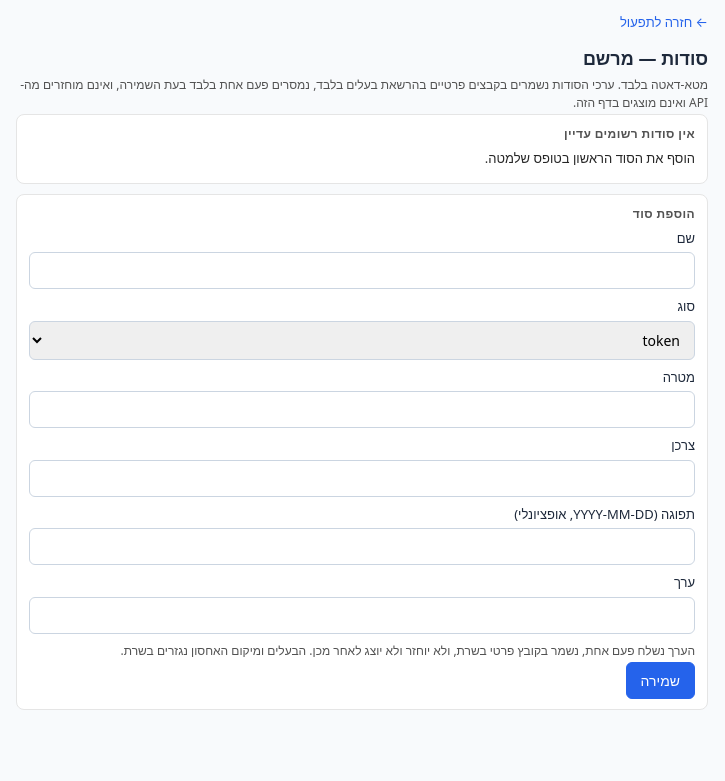
H2 — the owner flow works from the page › creates a secret, sends the value exactly once, and clears it after
The width and height of the screenshot is (725, 781).
Type "new-token" into the field with test id "ops-secret-name" at coordinates (362, 270), box [29,252,695,289]
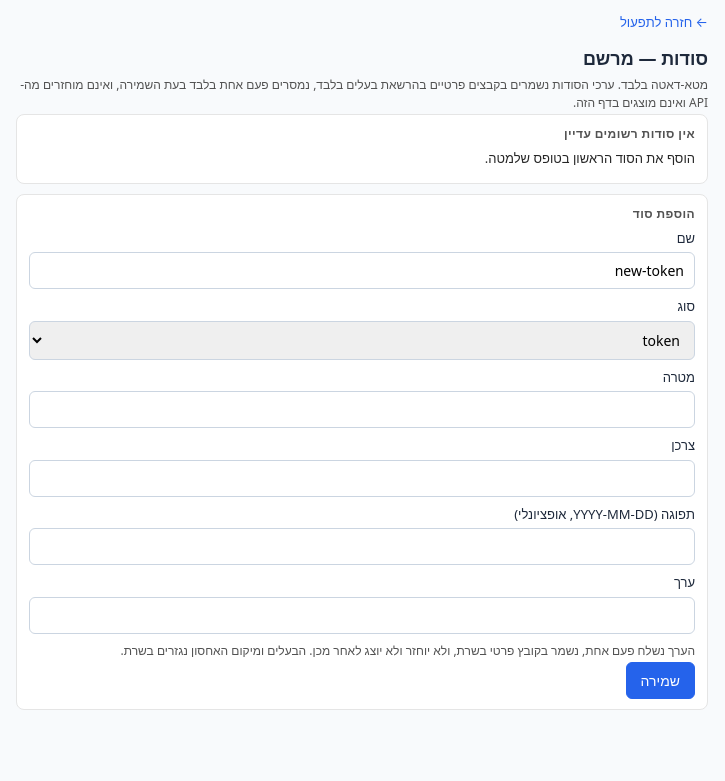
Type "synthetic" into the field with test id "ops-secret-purpose" at coordinates (362, 410), box [29,391,695,428]
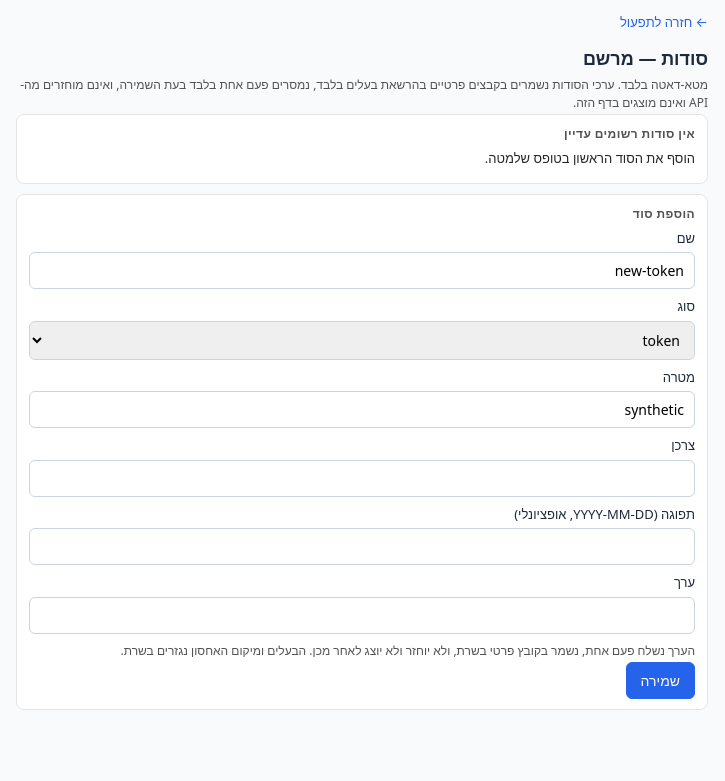
Type "none" into the field with test id "ops-secret-consumer" at coordinates (362, 478), box [29,460,695,496]
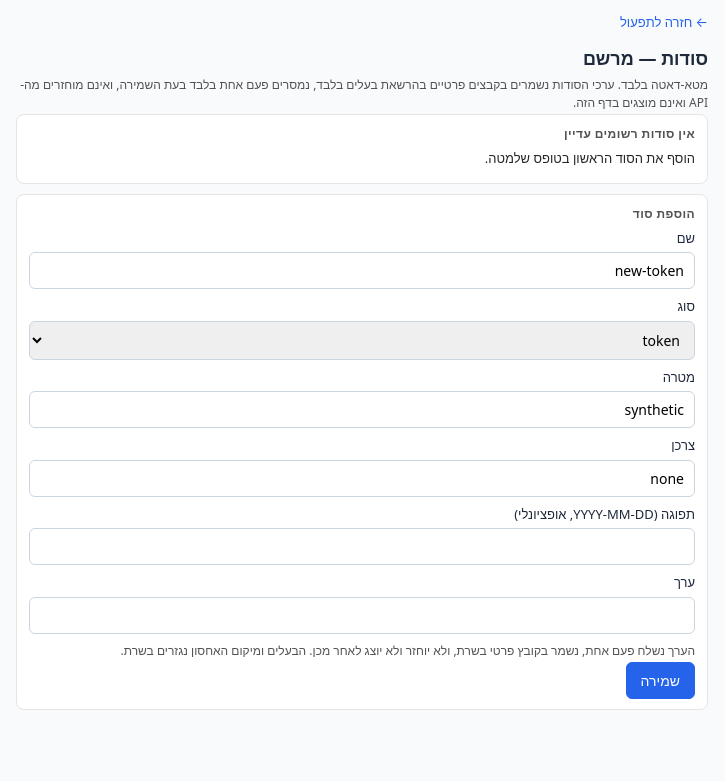
Type "Qx7z-synthetic-value-must-never-render-0001" into the password field with test id "ops-secret-value" at coordinates (362, 615), box [29,596,695,634]
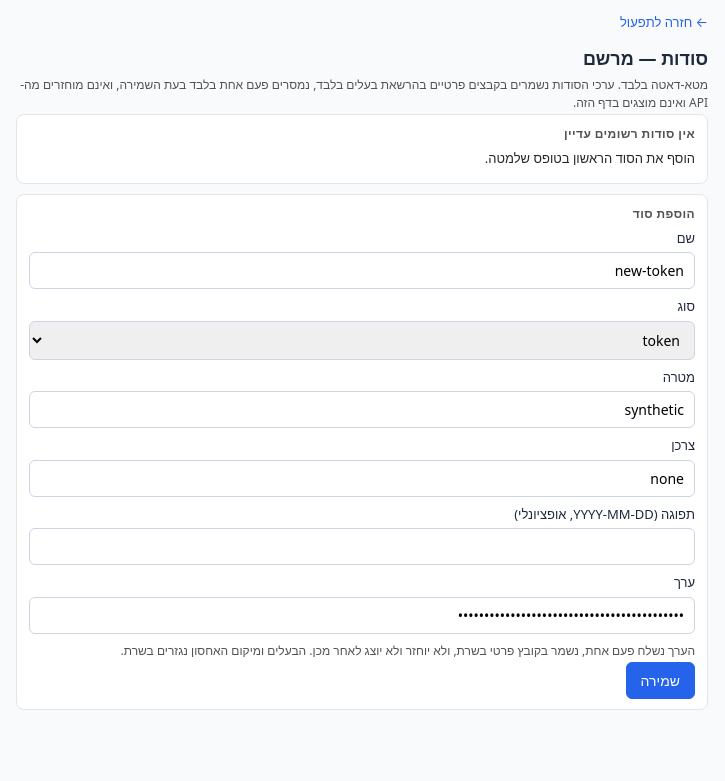
Click the button with test id "ops-secret-create-submit" at coordinates (660, 680), box [626,662,695,698]
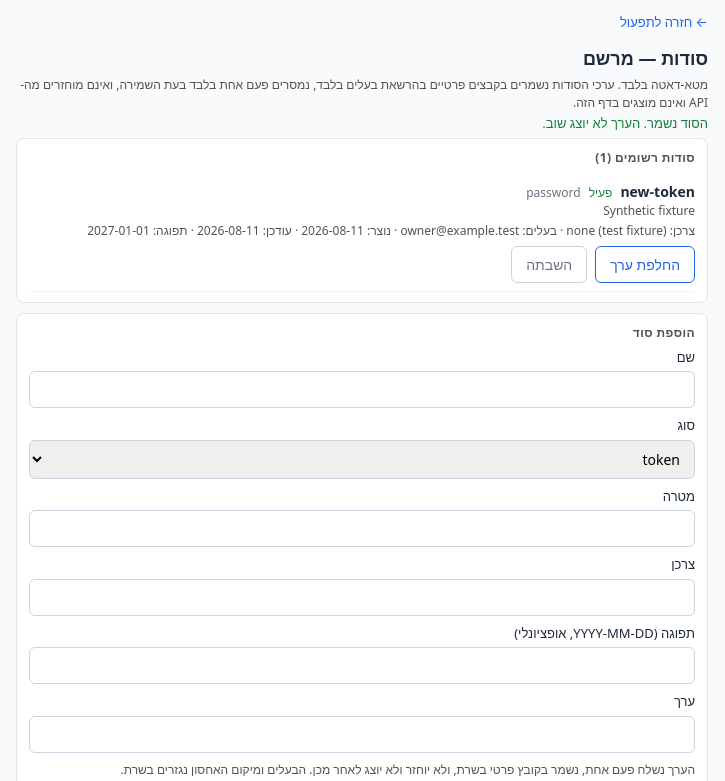
Expected: the password field with test id "ops-secret-value" is empty, [29,716,695,752]
Now the message "הסוד נשמר. הערך לא יוצג שוב." is shown, box [542,114,708,132]
